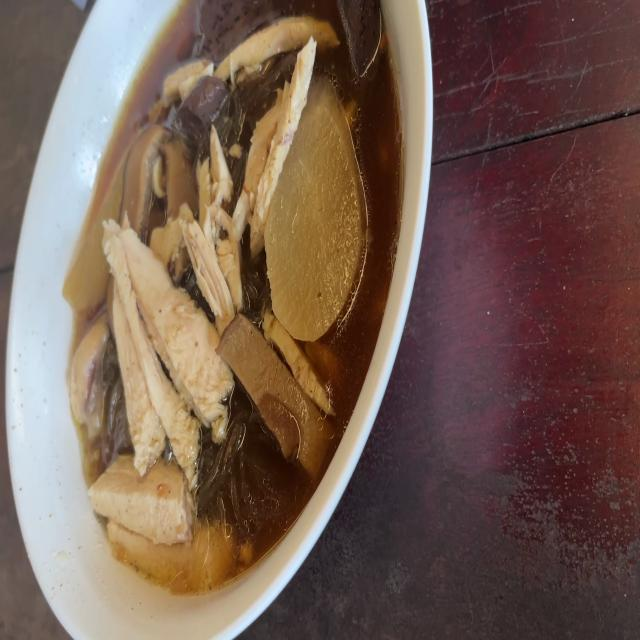boiled_chicken_blood_jelly: (168, 77, 229, 139), (197, 0, 269, 49), (340, 0, 382, 72)
chicken_shredded: (108, 224, 225, 454), (243, 39, 315, 237), (186, 138, 240, 307), (90, 456, 191, 536), (68, 326, 108, 431), (222, 22, 334, 58), (163, 62, 204, 87)
daikon_radish: (272, 111, 354, 325), (68, 155, 122, 317)
noodle: (69, 0, 397, 593)
